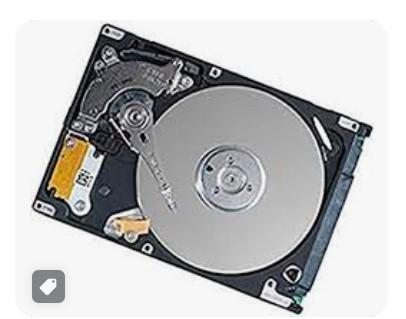internal HDD: (32, 24, 373, 314)
